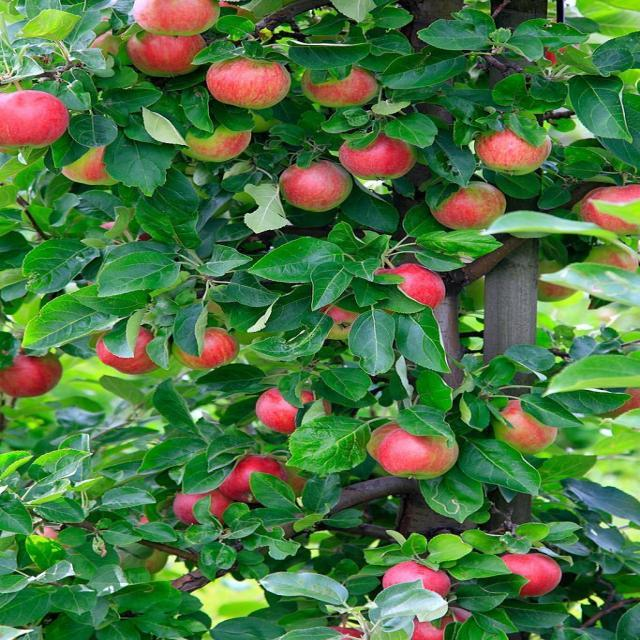Red Apple: (205, 55, 293, 109), (386, 426, 462, 479), (1, 89, 69, 147), (488, 399, 559, 454), (473, 128, 551, 176), (128, 28, 204, 74), (372, 263, 448, 308), (489, 556, 565, 599), (381, 559, 457, 602), (339, 133, 407, 181), (584, 184, 640, 242), (306, 63, 376, 109), (131, 1, 222, 36), (434, 184, 506, 227), (103, 328, 167, 376), (280, 162, 348, 207), (225, 456, 290, 502), (8, 348, 65, 398), (259, 387, 322, 431), (181, 121, 251, 159), (173, 484, 233, 524), (175, 329, 238, 367), (67, 143, 122, 184), (409, 605, 471, 640), (314, 301, 366, 341)
